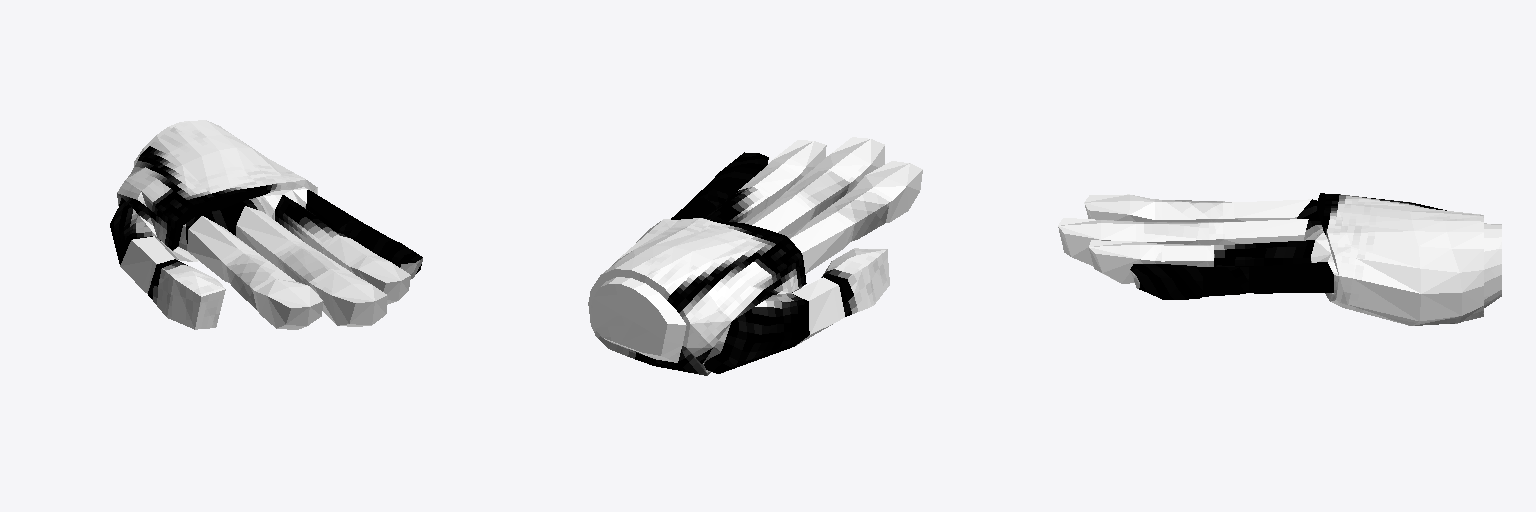
3 views of the same model, side by side, from view 1: azimuth 30°, elevation 25°; view 2: azimuth 150°, elevation 25°; view 3: azimuth 270°, elevation 25° (orthographic).
Visible parts, largest first — view 1: HandLeft_Untitled.005; view 2: HandLeft_Untitled.005; view 3: HandLeft_Untitled.005.
Boxes of the visible parts, x1=… form: HandLeft_Untitled.005: x1=110, y1=120, x2=422, y2=329; HandLeft_Untitled.005: x1=588, y1=137, x2=922, y2=375; HandLeft_Untitled.005: x1=1058, y1=193, x2=1501, y2=325.
Bounding box in the file's own units: 0.0989 × 0.0502 × 0.1948.
Materials: 1 (1 with a texture image).